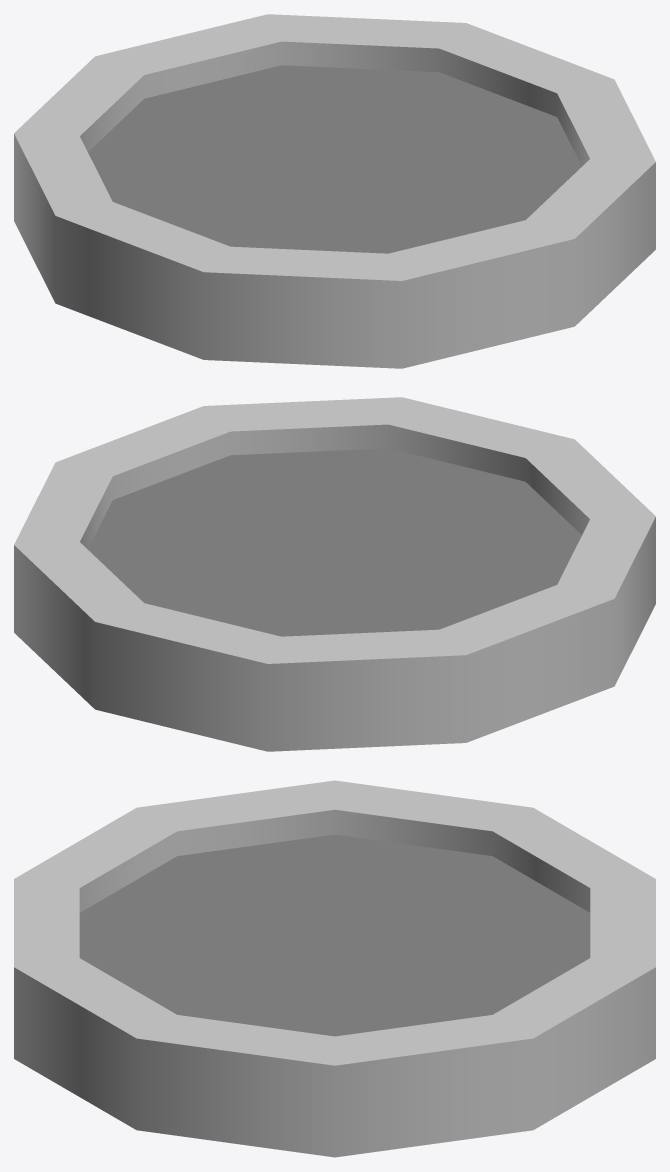
The model's file is Coin_01_Silver.fbx.
3 renders of one model, top to bottom at view 1: azimuth 30°, elevation 25°; view 2: azimuth 150°, elevation 25°; view 3: azimuth 270°, elevation 25°, orthographic. The views are drawn at different scales.
Visible parts, largest first — view 1: Coin_01_Silver; view 2: Coin_01_Silver; view 3: Coin_01_Silver.
Part boxes in pixels (bbox=[...]): Coin_01_Silver: bbox=[14, 14, 655, 368]; Coin_01_Silver: bbox=[14, 397, 655, 751]; Coin_01_Silver: bbox=[14, 780, 655, 1157].
Size of the model in its own units: 0.0361 by 0.00541 by 0.0343.
